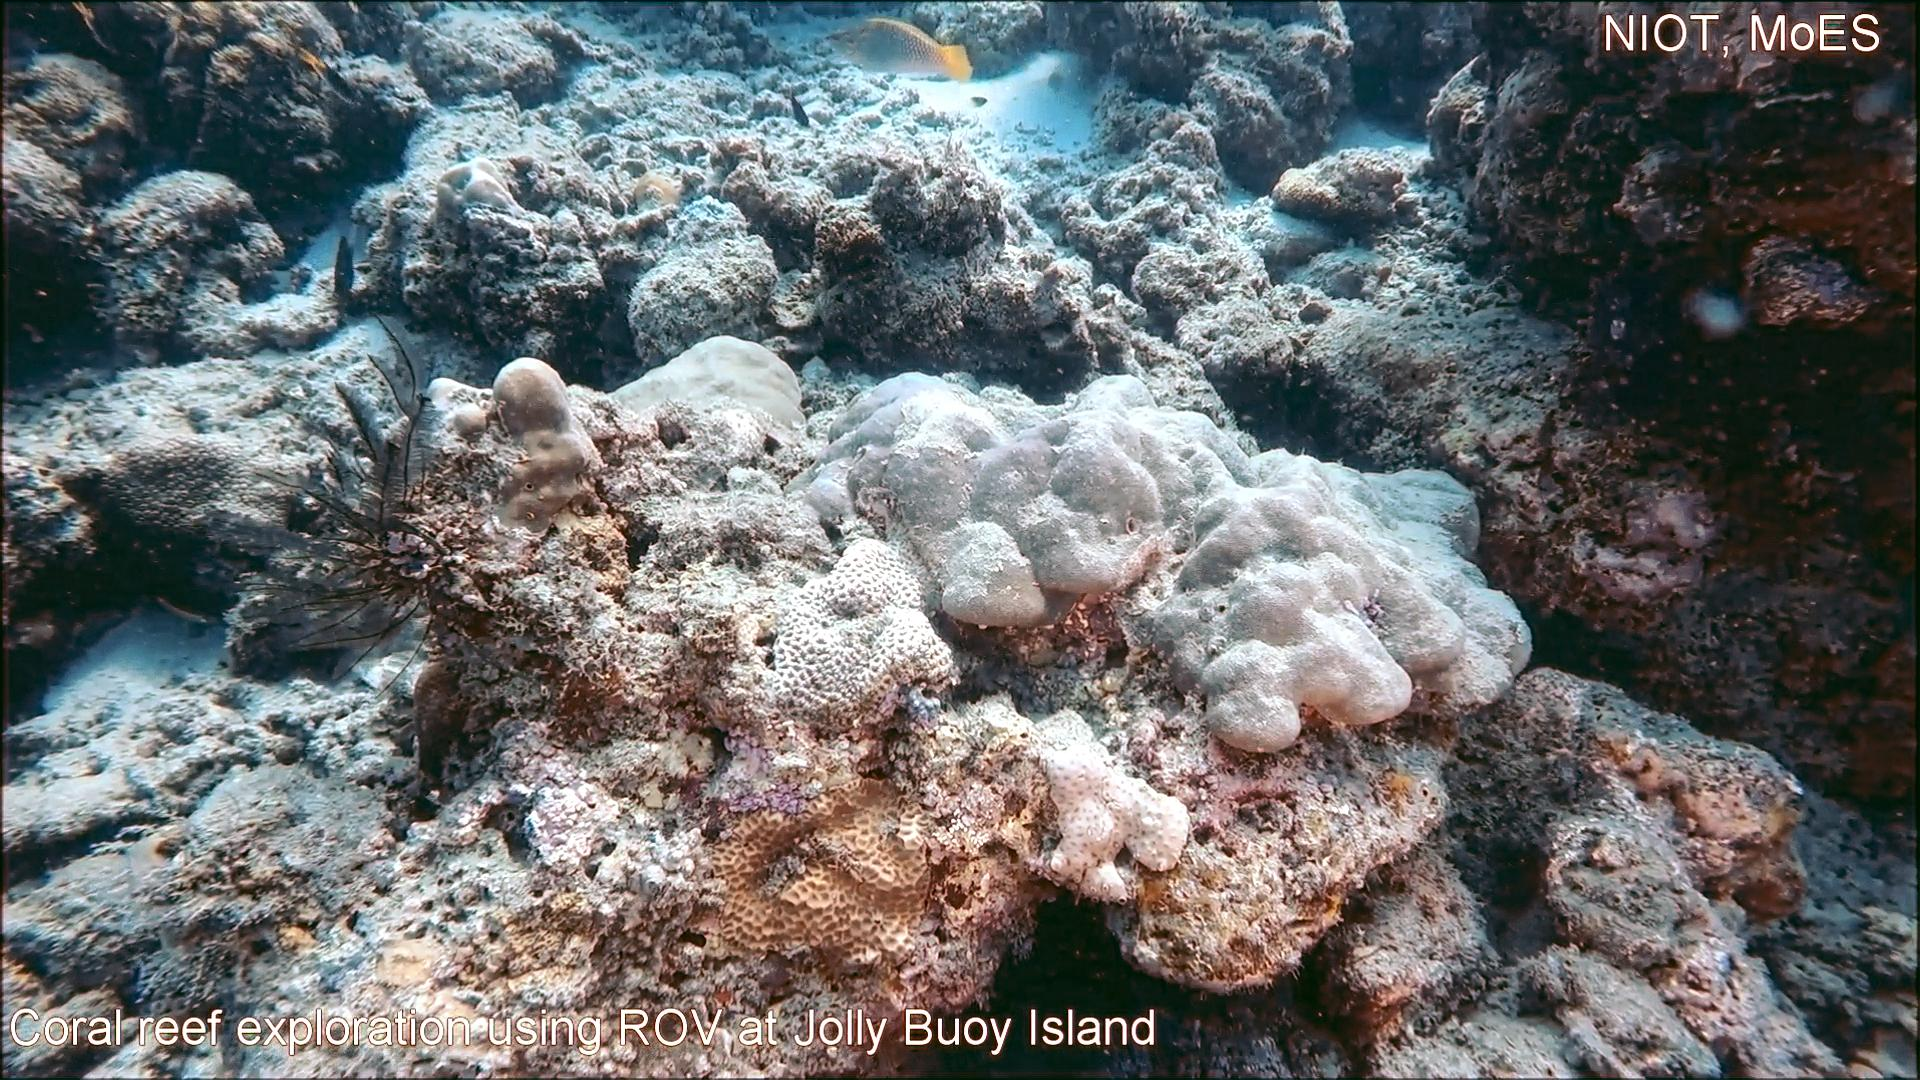Feather star-Crinoid star: (190, 305, 458, 712)
Goniastrea-Goniastrea pectinata: (767, 533, 961, 740)
Porites-Porites pukoensis: (1048, 367, 1540, 761)
Turbinaria-Turbinaria stellulata: (94, 430, 261, 539)
